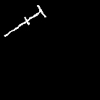double_crochet: (4, 5, 45, 36)
